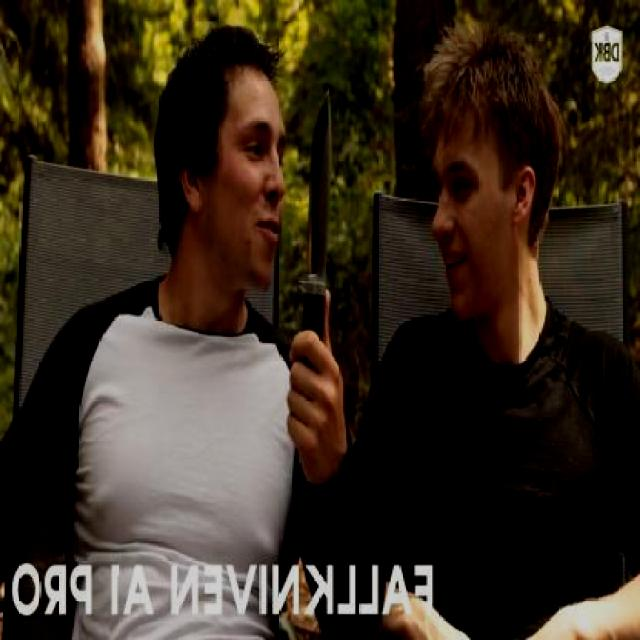knife: (282, 74, 340, 411)
